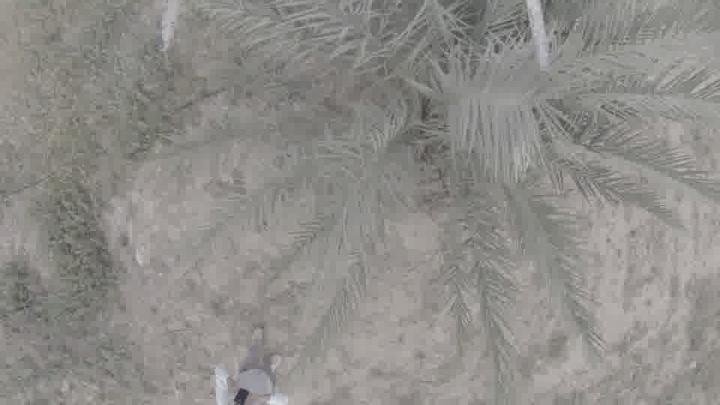Date-Palm-Crown: (279, 1, 643, 228)
